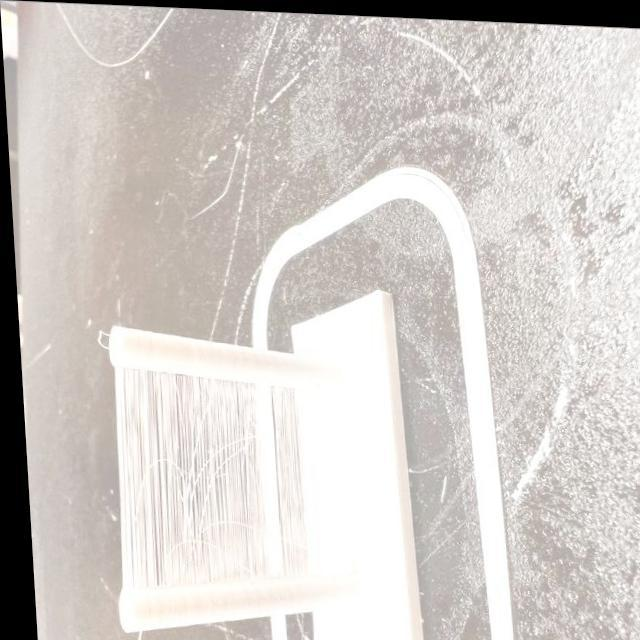stringing: (104, 363, 348, 600)
